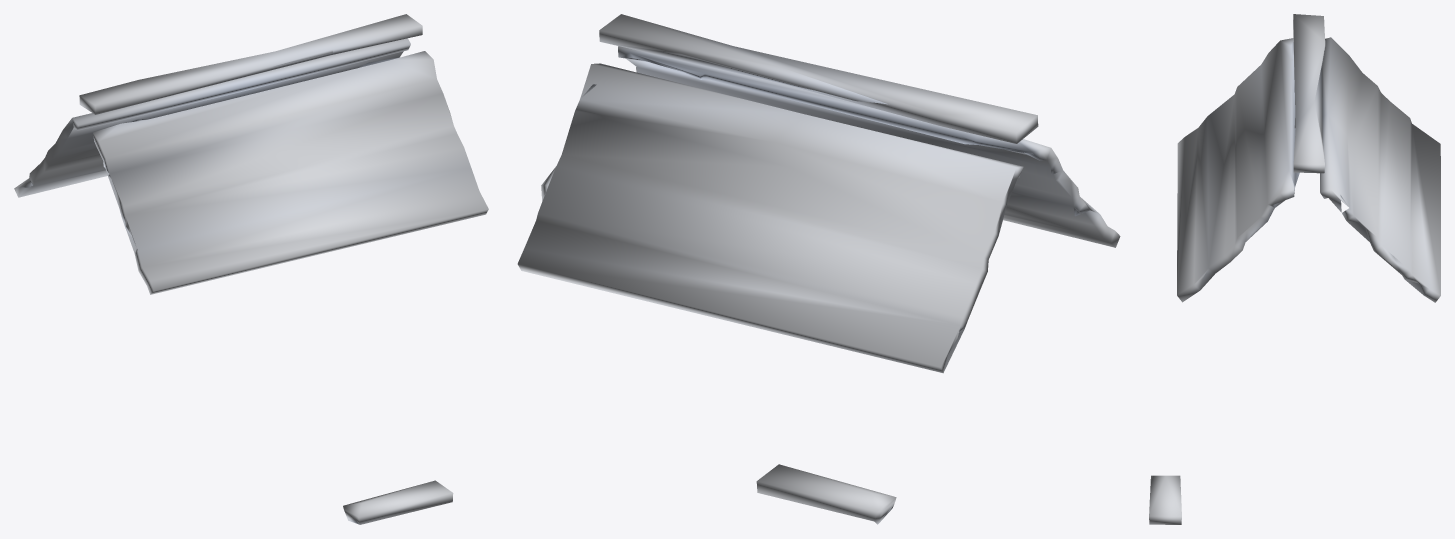
File: protocol.1inch.snow.glb
3 views of the same model, side by side, from view 1: azimuth 30°, elevation 25°; view 2: azimuth 150°, elevation 25°; view 3: azimuth 270°, elevation 25° (orthographic). The views are drawn at different scales.
Visible parts, largest first — view 1: building.protocol.1inch.snow.mesh; view 2: building.protocol.1inch.snow.mesh; view 3: building.protocol.1inch.snow.mesh.
Part boxes in pixels (x1,y1,x2,y2): building.protocol.1inch.snow.mesh: (14,14,488,524); building.protocol.1inch.snow.mesh: (517,14,1120,524); building.protocol.1inch.snow.mesh: (1149,14,1440,524).
Bounding box in the file's own units: 2.32 × 2.68 × 1.83.
